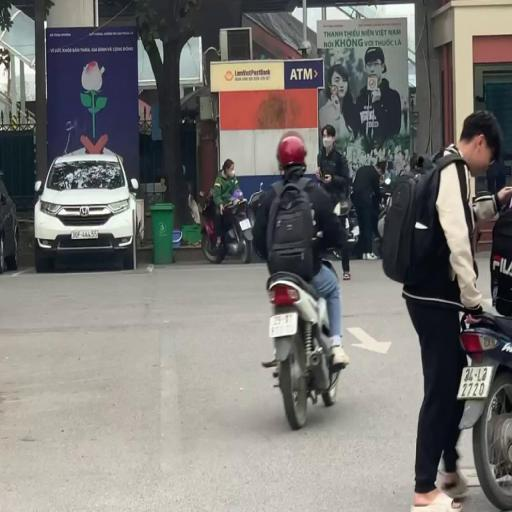bike: (253, 132, 350, 427)
numberplate: (458, 364, 490, 400), (268, 310, 298, 336), (238, 217, 252, 231)
with helmet: (277, 134, 306, 168)
